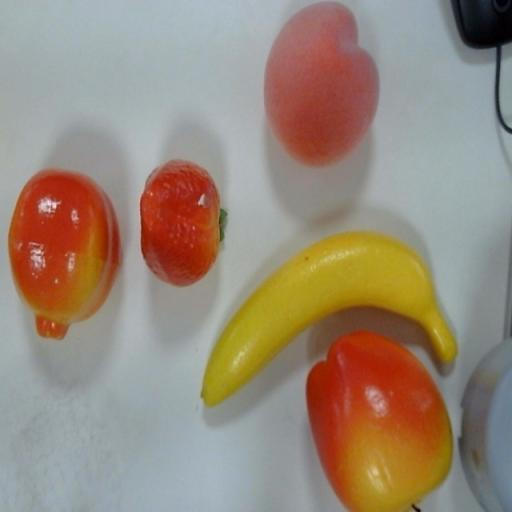Ripe: (10, 162, 124, 377), (133, 143, 239, 294)
